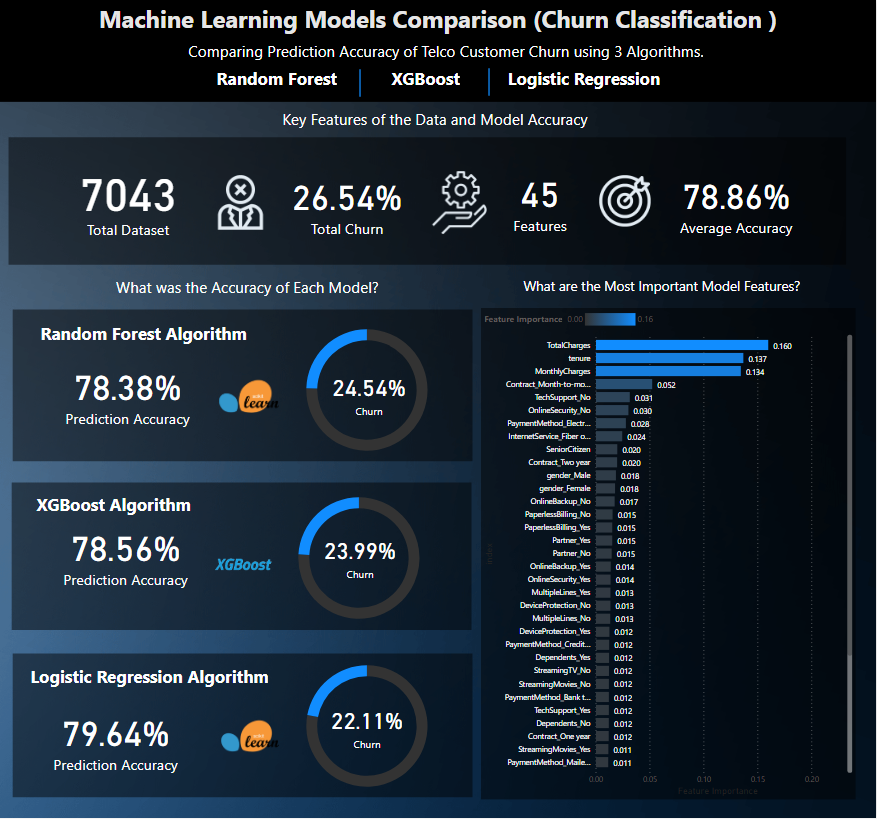

This screenshot's page, from the dashboard's own definition file:
{"tool":"powerbi","page":{"name":" Main","canvas":[1380,1290],"ordinal":0},"visuals":[{"type":"basicShape","box":[0.2,215,1346.5,204.9],"z":0},{"type":"basicShape","box":[10.6,758.9,738.9,236.8],"z":1000},{"type":"basicShape","box":[12.1,486.3,738.9,244.3],"z":2000},{"type":"basicShape","box":[12.1,1028.5,738.9,230.9],"z":3000},{"type":"donutChart","fields":{"Category":["WA_Fn-UseC_-Telco-Customer-Churn (3).XGboost"],"Y":["CountNonNull(WA_Fn-UseC_-Telco-Customer-Churn (3).XGboost)"]},"box":[384.1,756,362.3,248.9],"z":4000},{"type":"donutChart","fields":{"Category":["WA_Fn-UseC_-Telco-Customer-Churn (3).Logistic"],"Y":["CountNonNull(WA_Fn-UseC_-Telco-Customer-Churn (3).Logistic)"]},"box":[396.7,1020.7,362.3,248.9],"z":5000},{"type":"donutChart","fields":{"Category":["WA_Fn-UseC_-Telco-Customer-Churn (3).Random Forest"],"Y":["CountNonNull(WA_Fn-UseC_-Telco-Customer-Churn (3).Random Forest)"]},"box":[396.7,491.4,362.3,248.9],"z":6000},{"type":"textbox","box":[0,0,1379.8,162.2],"z":7000},{"type":"card","fields":{"Values":["Avg(WA_Fn-UseC_-Telco-Customer-Churn.Score)"]},"box":[67.7,526.1,266.2,189],"z":8000},{"type":"card","fields":{"Values":["Avg(WA_Fn-UseC_-Telco-Customer-Churn.Score)"]},"box":[64.6,779.7,266.2,189],"z":9000},{"type":"card","fields":{"Values":["Avg(WA_Fn-UseC_-Telco-Customer-Churn.Score)"]},"box":[48.8,1069.5,266.2,190.6],"z":10000},{"type":"image","box":[343.4,1110.4,100.8,108.7],"z":11000},{"type":"image","box":[340.2,578.1,104,104],"z":12000},{"type":"image","box":[248.9,811.2,266.2,152.8],"z":13000},{"type":"clusteredBarChart","fields":{"Y":["Sum(WA_Fn-UseC_-Telco-Customer-Churn (4).Feature Importance)"],"Category":["WA_Fn-UseC_-Telco-Customer-Churn (4).index"]},"box":[757.1,486.8,589.6,773.6],"z":14000},{"type":"card","fields":{"Values":["CountNonNull(WA_Fn-UseC_-Telco-Customer-Churn (2).Churn)"]},"box":[67.7,220.5,267.8,187.4],"z":15000},{"type":"image","box":[330.8,250.4,96.1,140.2],"z":16000},{"type":"card","fields":{"Values":["CountNonNull(WA_Fn-UseC_-Telco-Customer-Churn (4).Feature Importance)"]},"box":[716.7,223.7,267.8,187.4],"z":17000},{"type":"card","fields":{"Values":["Avg(WA_Fn-UseC_-Telco-Customer-Churn.Score)"]},"box":[1027,226.8,264.6,187.4],"z":18000},{"type":"card","fields":{"Values":["WA_Fn-UseC_-Telco-Customer-Churn (2).Measure"]},"box":[414.2,226.8,264.6,189],"z":19000},{"type":"image","box":[630,266.2,185.9,108.7],"z":20000},{"type":"image","box":[919.9,272.5,129.2,91.4],"z":21000},{"type":"textbox","box":[39.4,502.5,381.2,52],"z":22000},{"type":"textbox","box":[798.6,431.1,493.1,68.5],"z":23000},{"type":"textbox","box":[378.6,167.5,621.2,93.8],"z":24000},{"type":"textbox","box":[0.2,771.8,365.4,78.8],"z":25000},{"type":"textbox","box":[39.6,1042.7,400.1,53.6],"z":26000},{"type":"textbox","box":[41.9,431.1,694.2,55.1],"z":27000},{"type":"textbox","box":[249,100.5,381.3,52.1],"z":28000},{"type":"textbox","box":[729.5,100.8,381.2,52],"z":29000},{"type":"textbox","box":[482.8,100.5,381.3,52.1],"z":30000},{"type":"card","fields":{"Values":["WA_Fn-UseC_-Telco-Customer-Churn (3).Rand Churn"]},"box":[490.1,554.4,182.7,130.7],"z":31000},{"type":"card","fields":{"Values":["WA_Fn-UseC_-Telco-Customer-Churn (3).xg_churn"]},"box":[475.9,811.2,182.7,130.7],"z":32000},{"type":"card","fields":{"Values":["WA_Fn-UseC_-Telco-Customer-Churn (3).Log_churn"]},"box":[486.9,1078.9,182.7,130.7],"z":33000},{"type":"basicShape","box":[546.8,100.8,41,63],"z":33001},{"type":"basicShape","box":[749.9,99.2,41,63],"z":33002},{"type":"textbox","box":[266.2,59.9,872.6,92.9],"z":33003}]}

Visuals, with their boxes in screenshot pixels (x1, y1, x2, y2), scaled from the page's 1380x1290 canvas onto the 877x819 screenshot:
basicShape: [0, 136, 856, 267]
basicShape: [7, 482, 476, 632]
basicShape: [8, 309, 477, 464]
basicShape: [8, 653, 477, 800]
donutChart - WA_Fn-UseC_-Telco-Customer-Churn (3).XGboost x CountNonNull(WA_Fn-UseC_-Telco-Customer-Churn (3).XGboost): [244, 480, 474, 638]
donutChart - WA_Fn-UseC_-Telco-Customer-Churn (3).Logistic x CountNonNull(WA_Fn-UseC_-Telco-Customer-Churn (3).Logistic): [252, 648, 482, 806]
donutChart - WA_Fn-UseC_-Telco-Customer-Churn (3).Random Forest x CountNonNull(WA_Fn-UseC_-Telco-Customer-Churn (3).Random Forest): [252, 312, 482, 470]
textbox: [0, 0, 876, 103]
card - Avg(WA_Fn-UseC_-Telco-Customer-Churn.Score): [43, 334, 212, 454]
card - Avg(WA_Fn-UseC_-Telco-Customer-Churn.Score): [41, 495, 210, 615]
card - Avg(WA_Fn-UseC_-Telco-Customer-Churn.Score): [31, 679, 200, 800]
image: [218, 705, 282, 774]
image: [216, 367, 282, 433]
image: [158, 515, 327, 612]
clusteredBarChart - Sum(WA_Fn-UseC_-Telco-Customer-Churn (4).Feature Importance) x WA_Fn-UseC_-Telco-Customer-Churn (4).index: [481, 309, 856, 800]
card - CountNonNull(WA_Fn-UseC_-Telco-Customer-Churn (2).Churn): [43, 140, 213, 259]
image: [210, 159, 271, 248]
card - CountNonNull(WA_Fn-UseC_-Telco-Customer-Churn (4).Feature Importance): [455, 142, 626, 261]
card - Avg(WA_Fn-UseC_-Telco-Customer-Churn.Score): [653, 144, 821, 263]
card - WA_Fn-UseC_-Telco-Customer-Churn (2).Measure: [263, 144, 431, 264]
image: [400, 169, 519, 238]
image: [585, 173, 667, 231]
textbox: [25, 319, 267, 352]
textbox: [508, 274, 821, 317]
textbox: [241, 106, 635, 166]
textbox: [0, 490, 232, 540]
textbox: [25, 662, 279, 696]
textbox: [27, 274, 468, 309]
textbox: [158, 64, 401, 97]
textbox: [464, 64, 706, 97]
textbox: [307, 64, 549, 97]
card - WA_Fn-UseC_-Telco-Customer-Churn (3).Rand Churn: [311, 352, 428, 435]
card - WA_Fn-UseC_-Telco-Customer-Churn (3).xg_churn: [302, 515, 419, 598]
card - WA_Fn-UseC_-Telco-Customer-Churn (3).Log_churn: [309, 685, 426, 768]
basicShape: [347, 64, 374, 104]
basicShape: [477, 63, 503, 103]
textbox: [169, 38, 724, 97]
